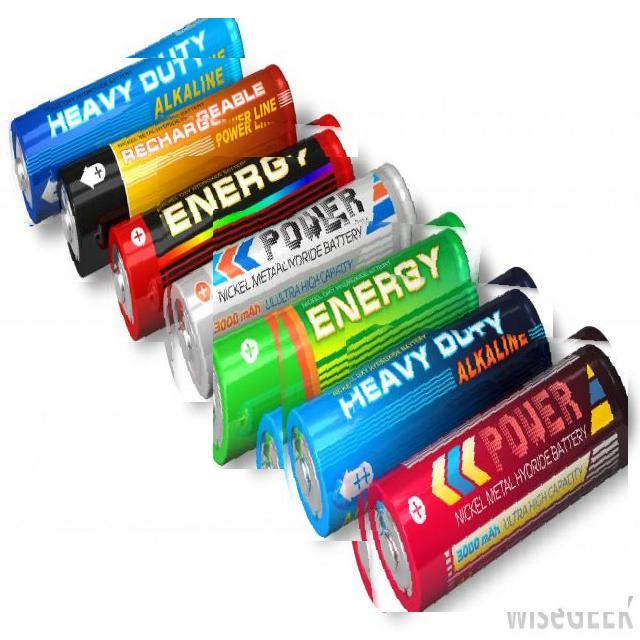battery: (344, 322, 628, 612), (276, 264, 554, 542), (213, 210, 483, 470), (156, 156, 417, 402), (102, 111, 358, 342), (50, 59, 302, 282), (5, 18, 246, 227)
